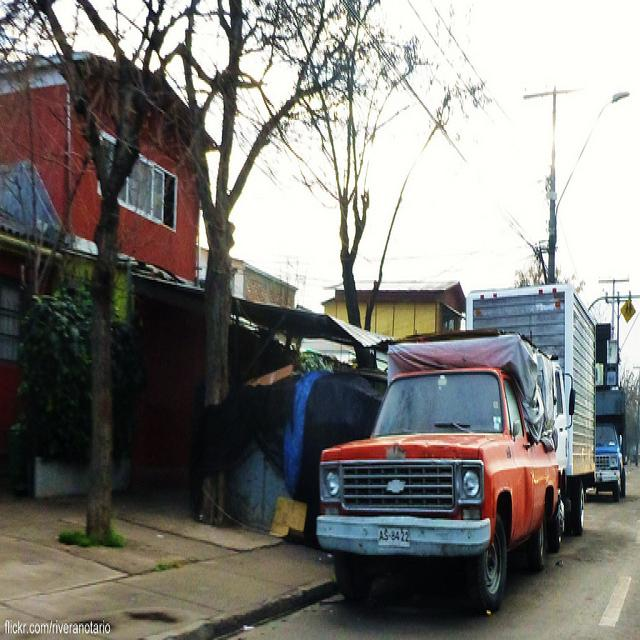Vehicle: (317, 286, 597, 612), (596, 385, 626, 501)
